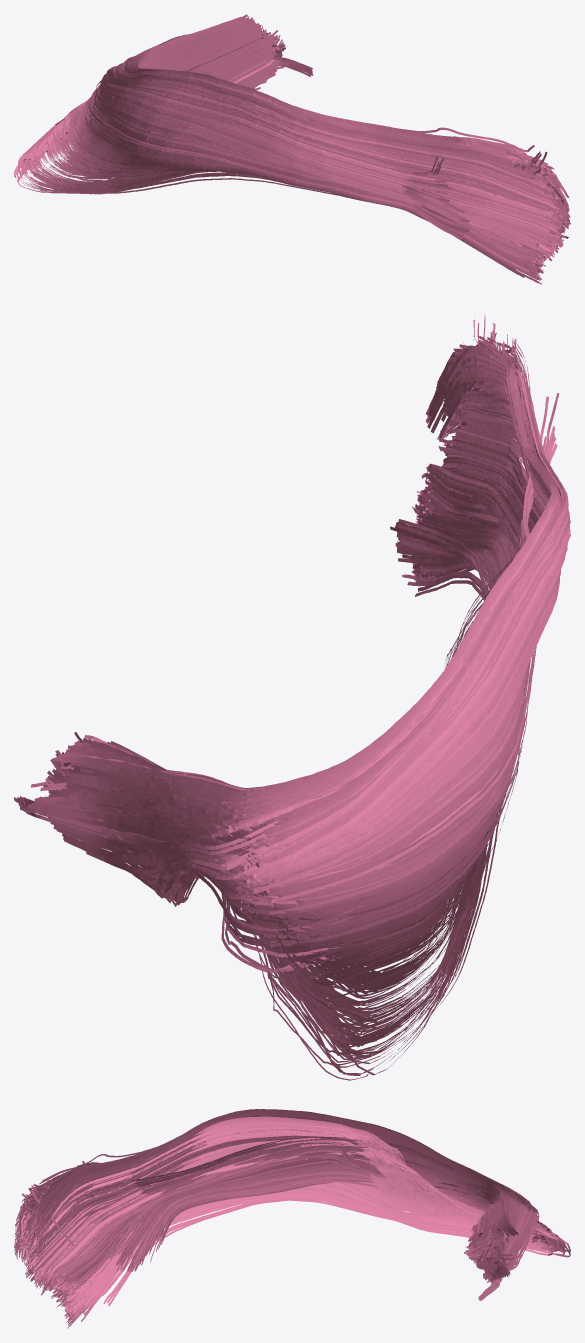
3 views of the same model, one above another, from view 1: azimuth 30°, elevation 25°; view 2: azimuth 150°, elevation 25°; view 3: azimuth 270°, elevation 25° (orthographic). The views are drawn at different scales.
Visible parts, largest first — view 1: tracts; view 2: tracts; view 3: tracts.
Boxes of the visible parts, x1,y1,x2,y2 form: tracts: [14, 14, 570, 284]; tracts: [14, 313, 570, 1080]; tracts: [14, 1109, 570, 1328].
Size of the model in its own units: 41.04 by 29.37 by 84.57.
